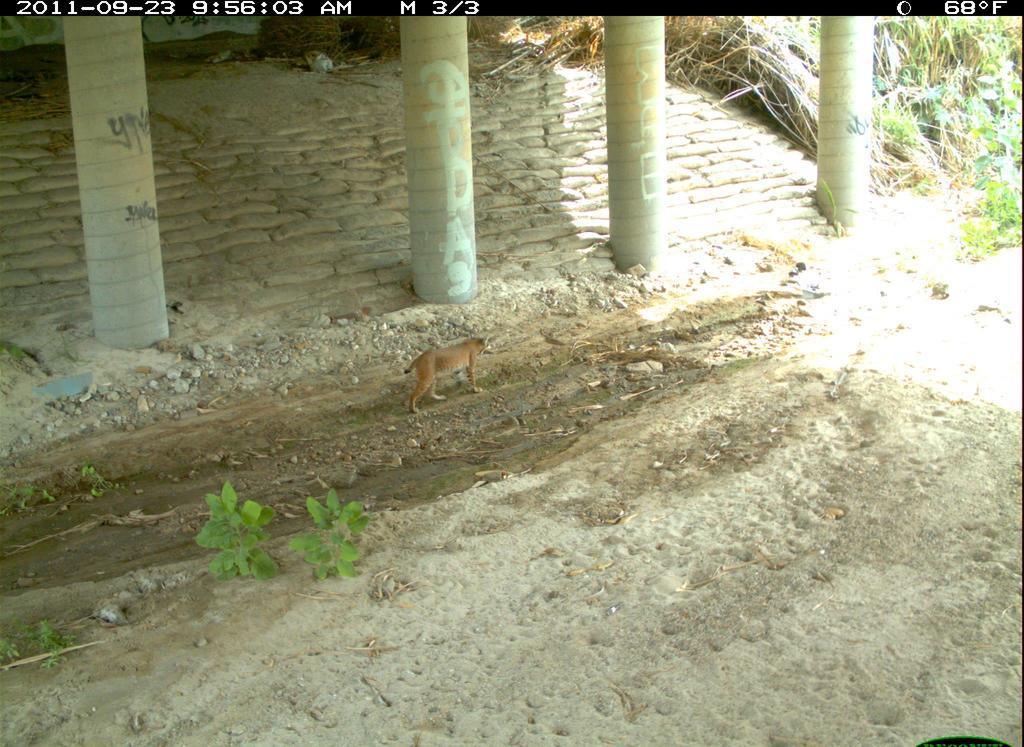bobcat: (800, 658, 986, 747)
